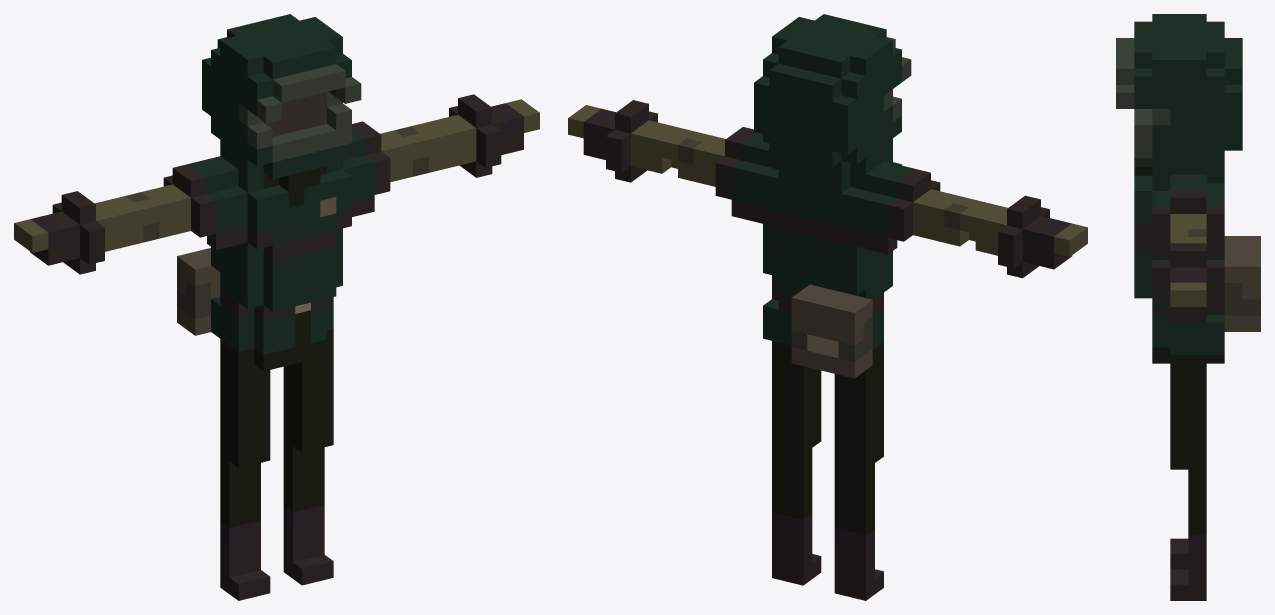
Rendered from TPose_Character10.glb.
3 renders of one model, left to right at view 1: azimuth 30°, elevation 25°; view 2: azimuth 150°, elevation 25°; view 3: azimuth 270°, elevation 25°, orthographic.
Parts seen in each view (by area): view 1: Character10; view 2: Character10; view 3: Character10.
Boxes of the visible parts, x1=… form: Character10: x1=14, y1=14, x2=539, y2=600; Character10: x1=568, y1=14, x2=1087, y2=600; Character10: x1=1116, y1=14, x2=1260, y2=600.
Bounding box in the file's own units: 1.94 × 2 × 0.4849.
1 material, 1 textured.
